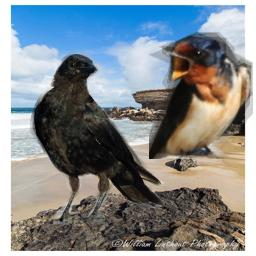Crow: (30, 52, 165, 225)
Swallow: (149, 32, 253, 159)
